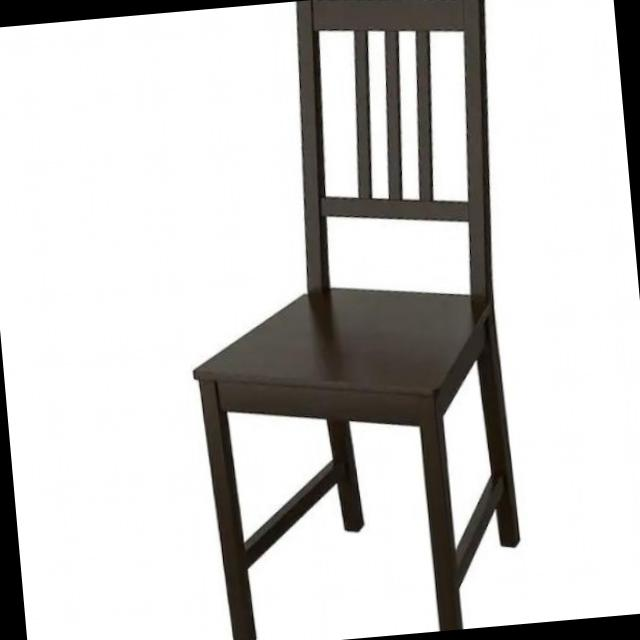Chair: (157, 0, 544, 640)
